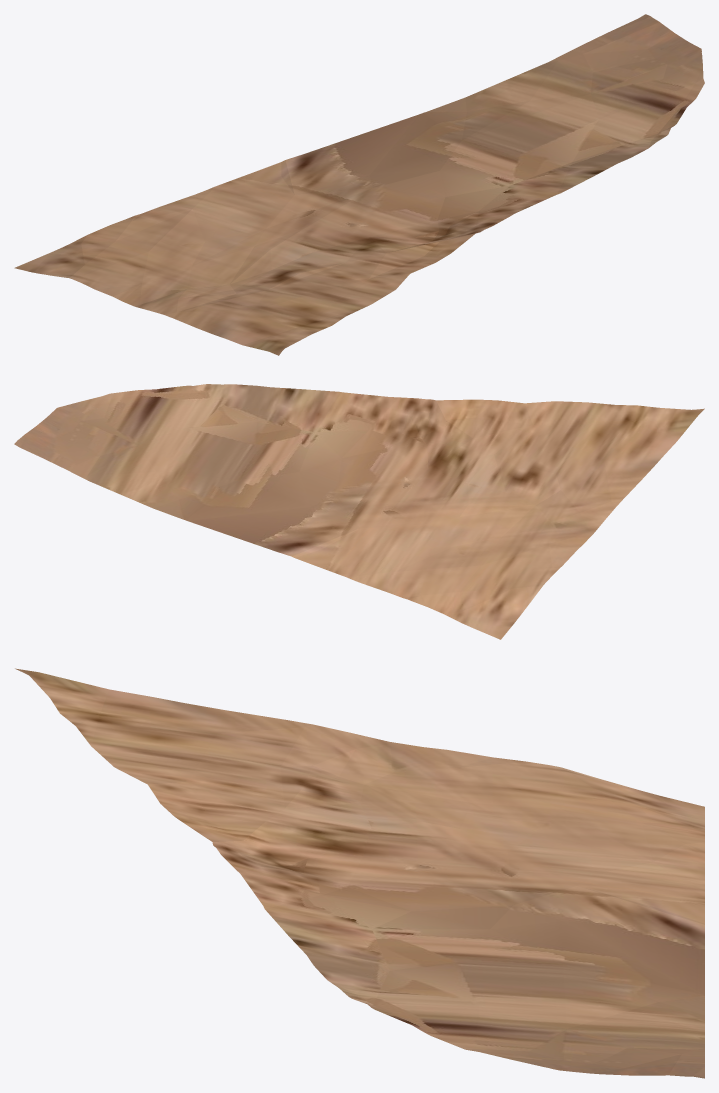
3 renders of one model, top to bottom at view 1: azimuth 30°, elevation 25°; view 2: azimuth 150°, elevation 25°; view 3: azimuth 270°, elevation 25°, orthographic. The views are drawn at different scales.
Bounding box in the file's own units: 1.04 × 0.1676 × 0.7586.
Materials: 1 (1 with a texture image).
